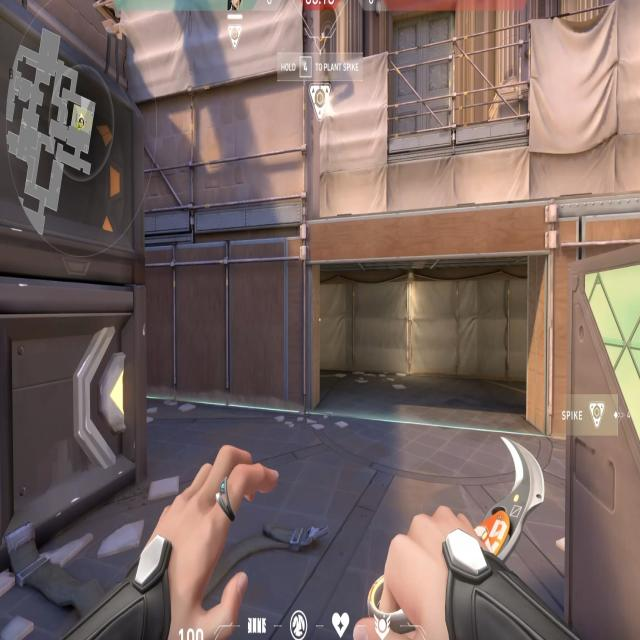A_Heaven_Wall: (123, 0, 325, 215)
A_Hell: (278, 212, 599, 452)
